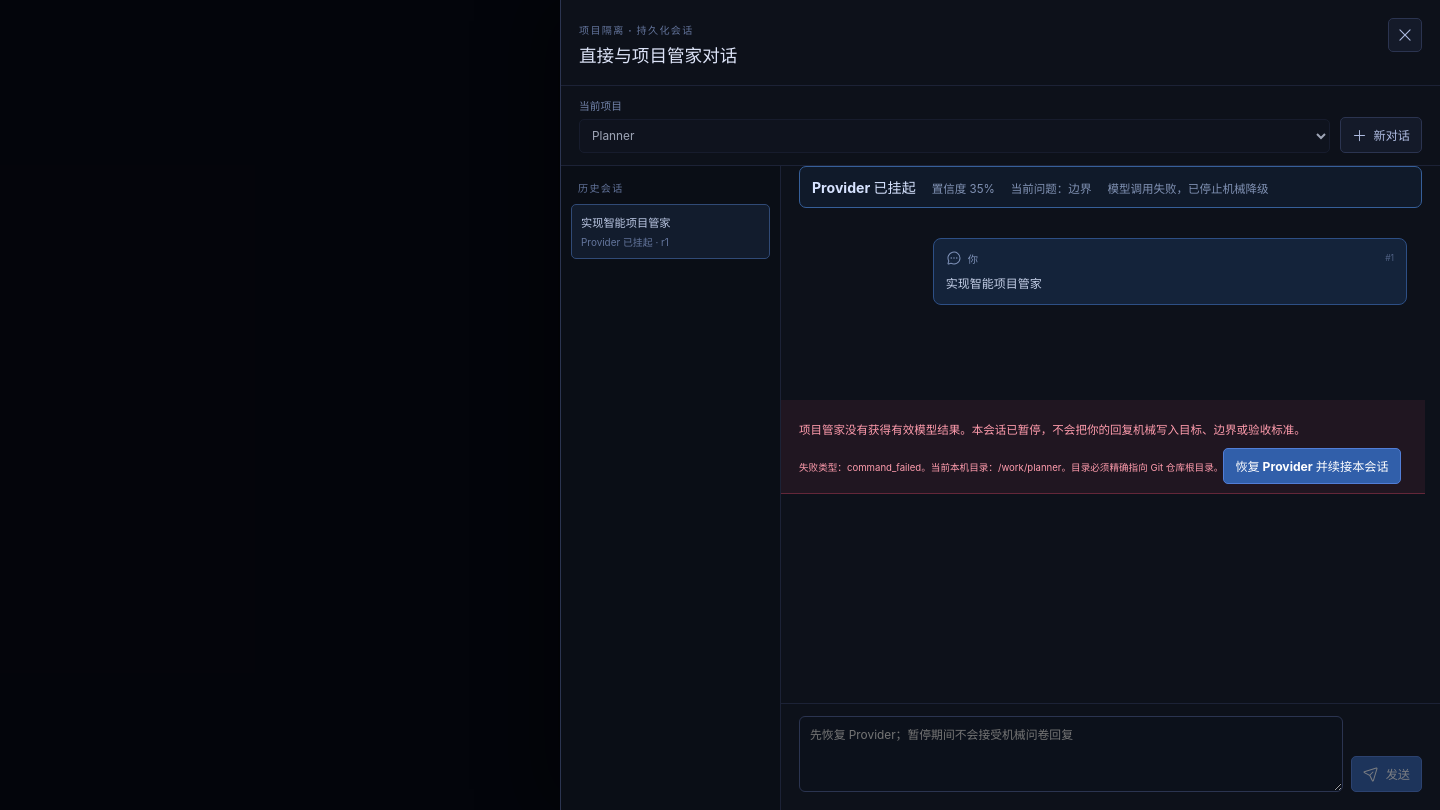
Test: ProjectButlerDialog provider suspension › shows fail-closed state and resumes the same conversation
This screenshot has width=1440, height=810.
Expected: the text "Provider 已挂起" is shown, [812,177,916,197]
Expected: the text "模型调用失败，已停止机械降级" is shown, [1107,180,1269,196]
Step 1. Click the button "恢复 Provider 并续接本会话" → [1312, 466], box [1223,448,1401,484]
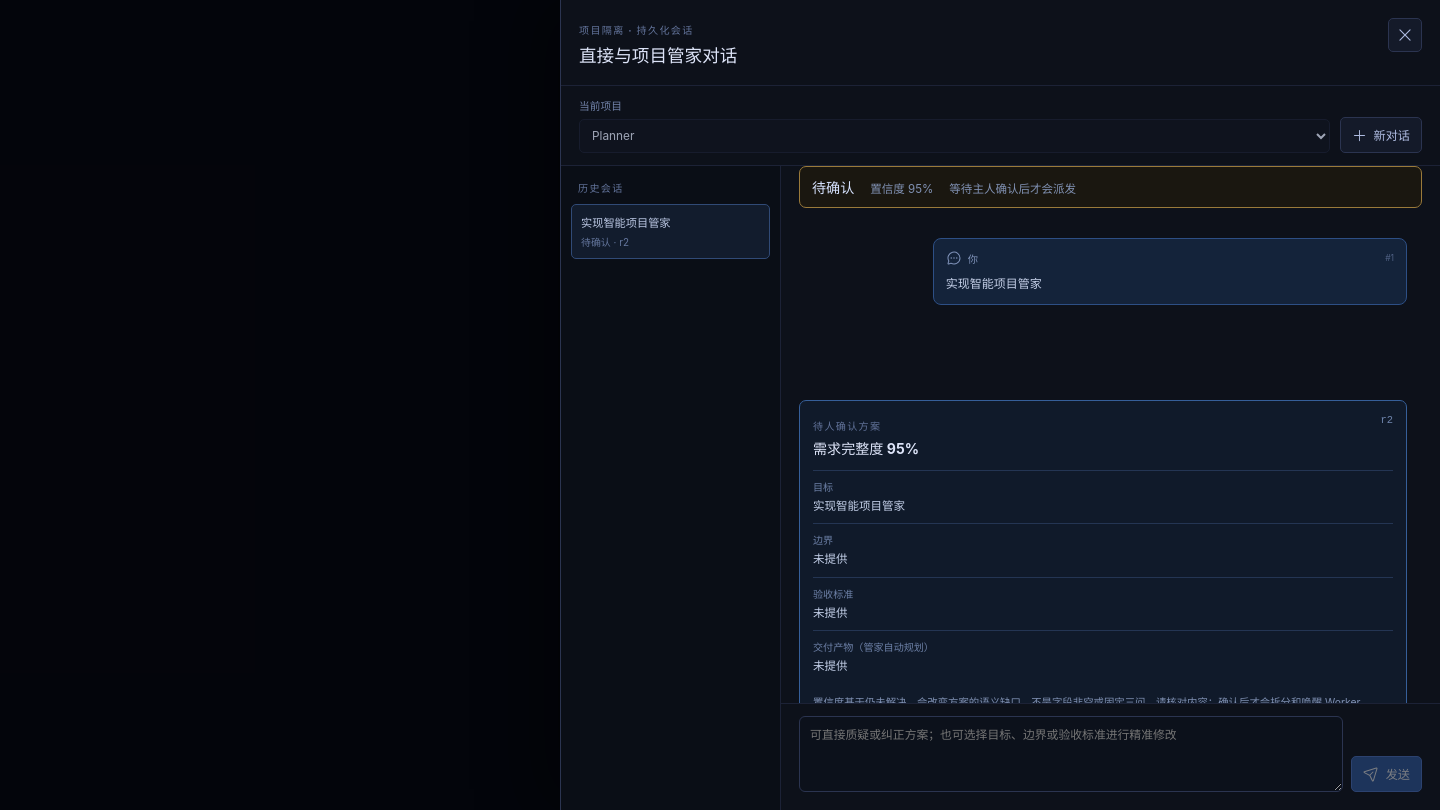
Expected: the text "待确认" is shown, [812,177,854,197]
